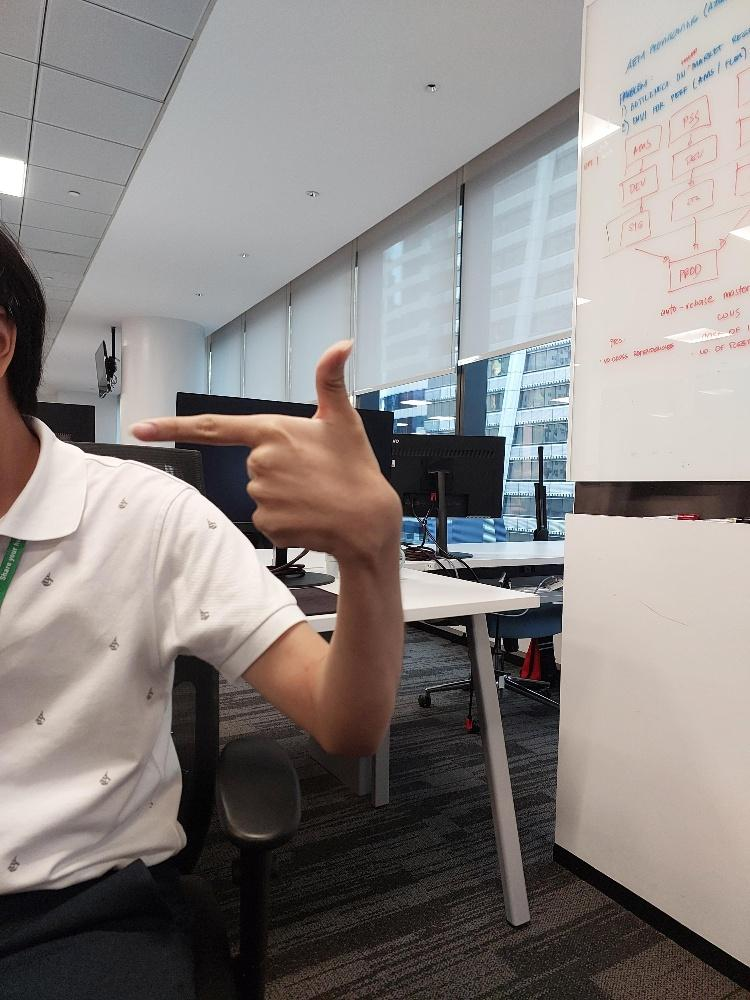g: (126, 336, 399, 561)
